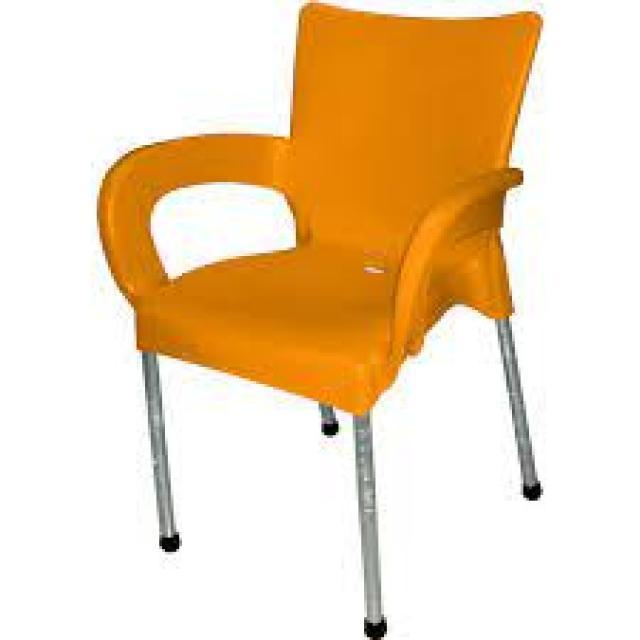chair: (96, 1, 547, 640)
